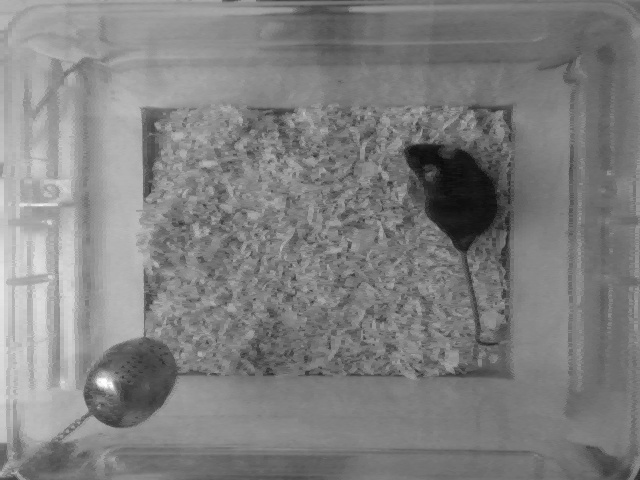mice: (391, 139, 514, 350)
